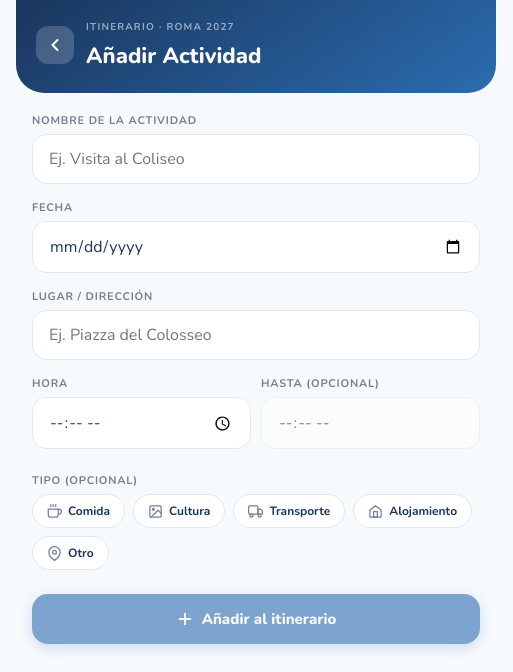
Test case: AnadirActividad › sin fechas en el viaje exige elegir la fecha
The width and height of the screenshot is (513, 672).
Type "Coliseo" into the field labelled "Nombre de la actividad" at [256, 159], box [32,134,480,184]
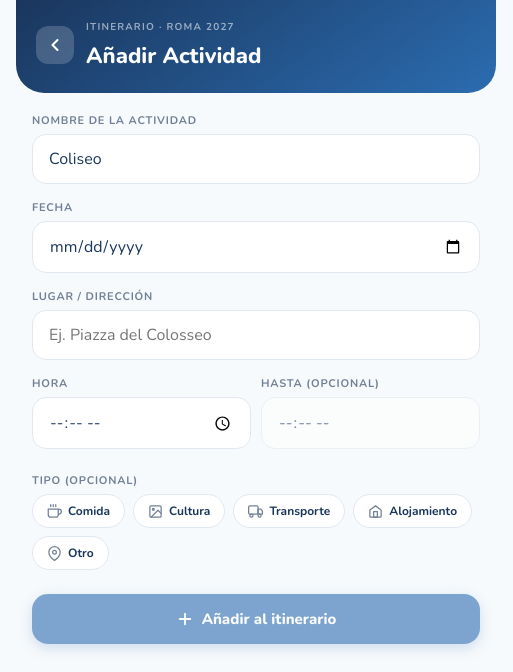
Expected: the button "Añadir al itinerario" is disabled, [32,594,480,644]
Type "2027-06-01" into the date field labelled "Fecha" at [256, 247], box [32,221,480,273]
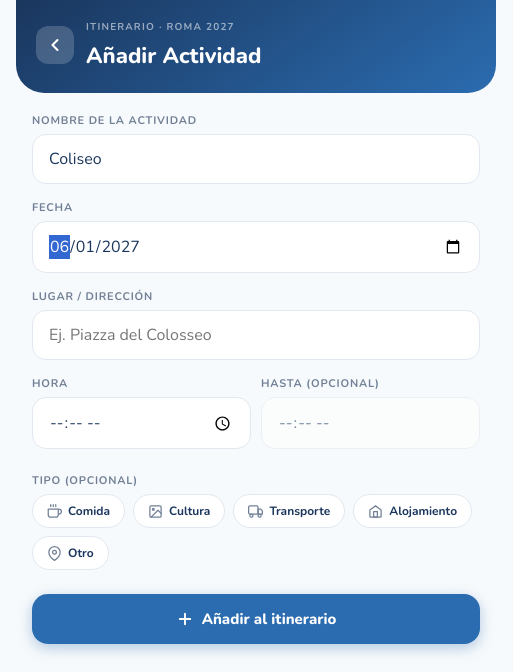
Expected: the button "Añadir al itinerario" is enabled, [32,594,480,644]
